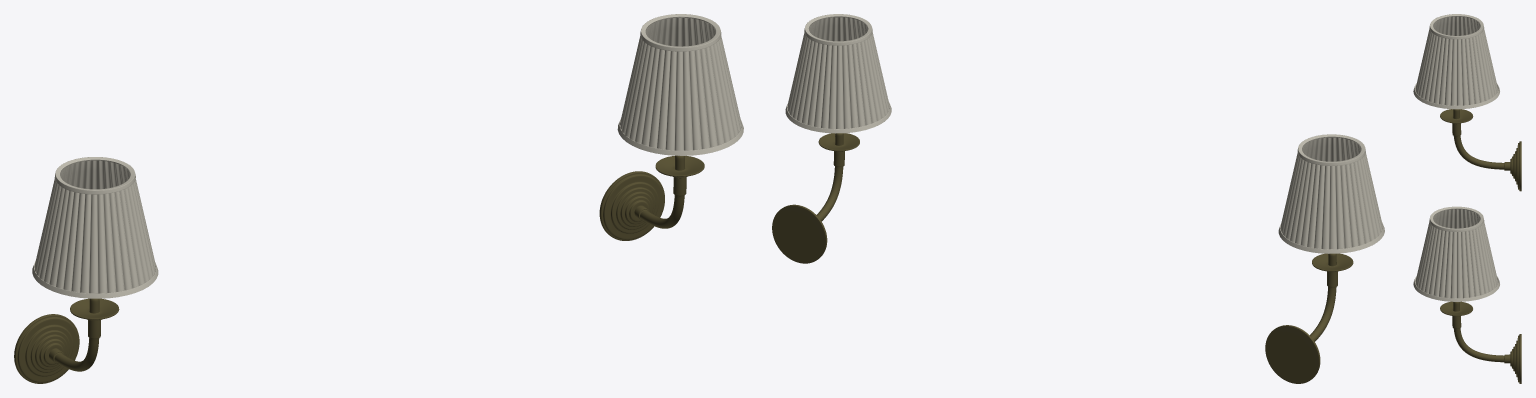
Rendered from Lamps.fbx.
The picture shows the model from 3 angles, left to right: view 1: azimuth 30°, elevation 25°; view 2: azimuth 150°, elevation 25°; view 3: azimuth 270°, elevation 25°; orthographic projection. The views are drawn at different scales.
Parts seen in each view (by area): view 1: Lamp_R, Lamp_L; view 2: Lamp_R, Lamp_L; view 3: Lamp_R, Lamp_L.
Boxes of the visible parts, box(x1,y1,x2,y2) form: Lamp_R: box(599, 14, 743, 240); Lamp_L: box(14, 157, 158, 383); Lamp_R: box(772, 14, 891, 263); Lamp_L: box(1265, 134, 1384, 383); Lamp_R: box(1413, 206, 1521, 383); Lamp_L: box(1413, 14, 1521, 191).
Size of the model in its own units: 193 by 64.69 by 38.67.
